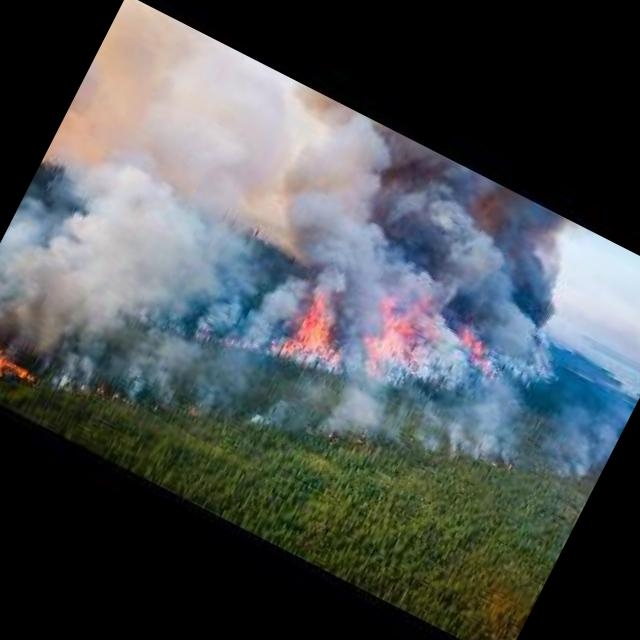fire: (280, 253, 492, 431), (78, 354, 208, 447), (436, 426, 518, 484), (301, 411, 368, 458), (0, 328, 38, 392)
smoke: (240, 87, 608, 381), (0, 151, 282, 450)
